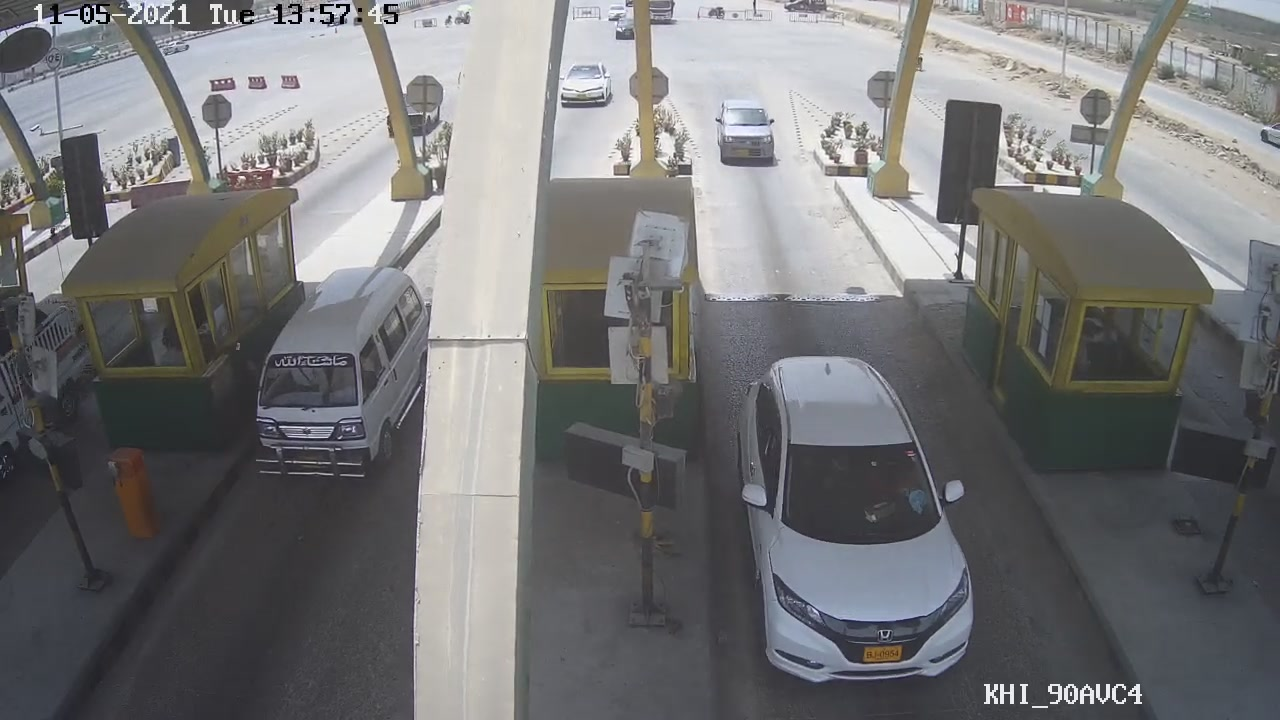F1: (731, 338, 980, 695)
